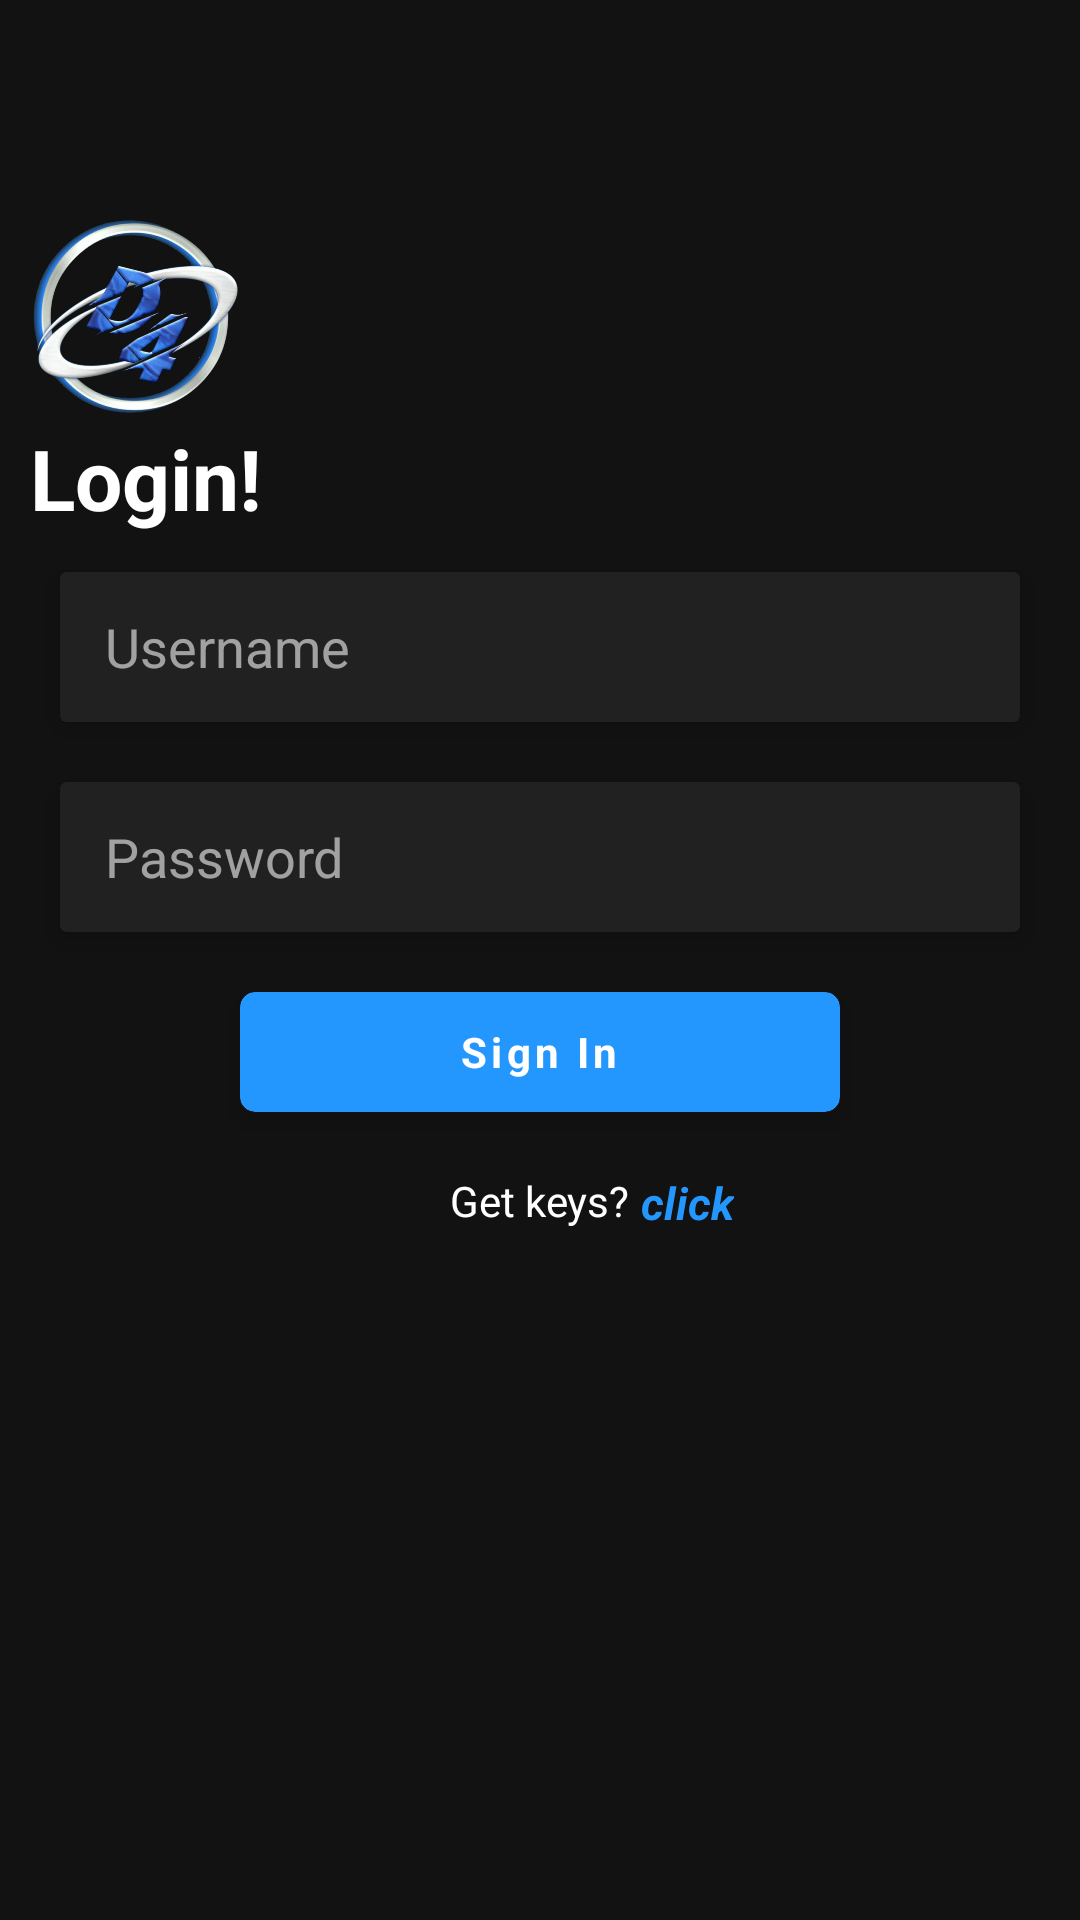

Where icons sit on this 1080 × 1920 app screen, as (x1, y1, x2, y2):
iconmain: (34, 220, 238, 461)
